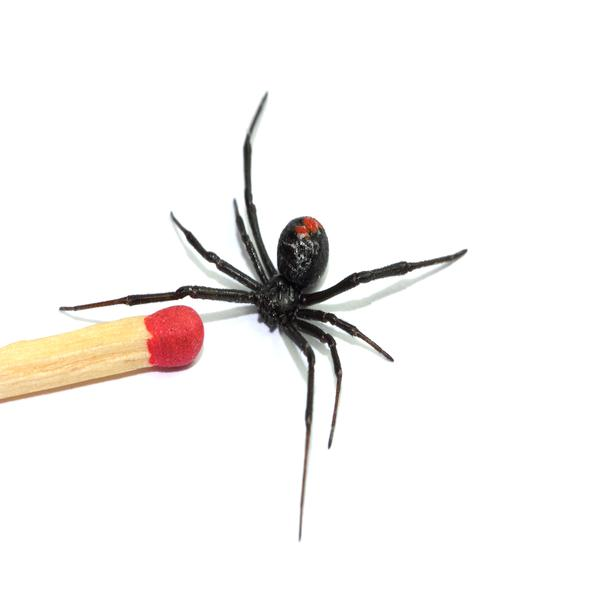Redback_Spider: (60, 91, 467, 531)
